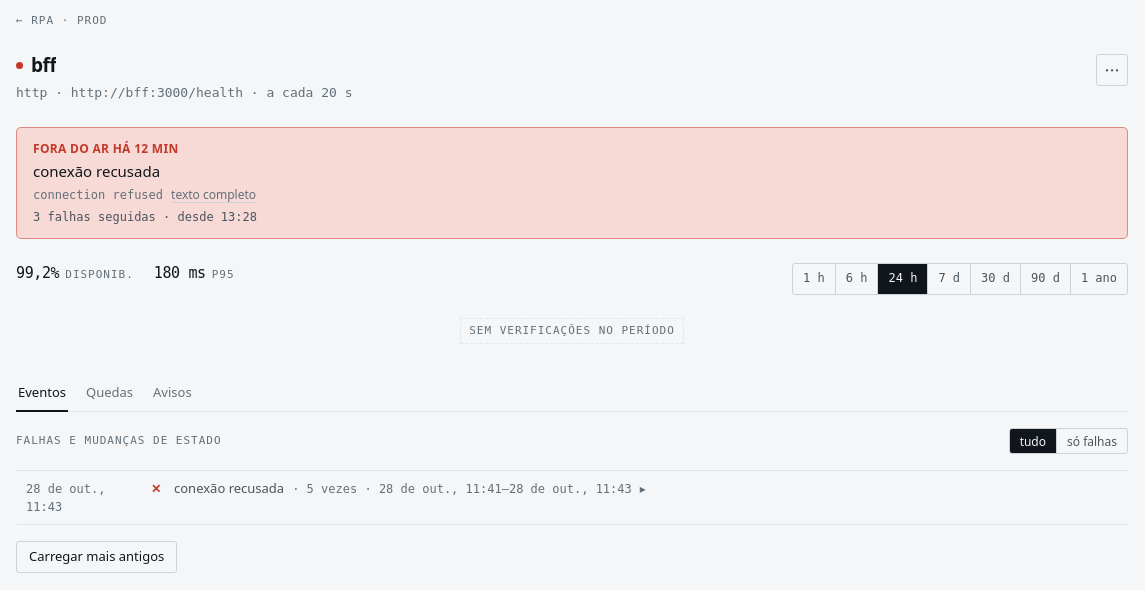
MonitorDetail: falhas repetidas › une o grupo que atravessa a página ao carregar os mais antigos
Expected: the button "5 vezes" is shown, [174,479,1124,499]
Click the button "Carregar mais antigos": click(97, 557) [16,541,177,573]
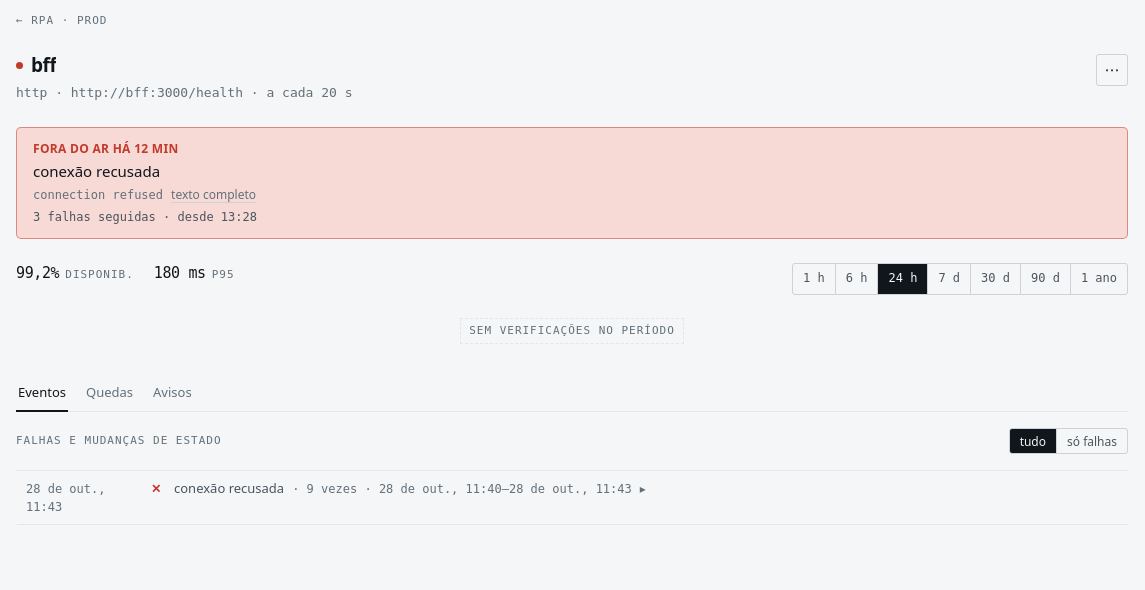
Expected: the button "9 vezes" is shown, [174,479,1124,499]
